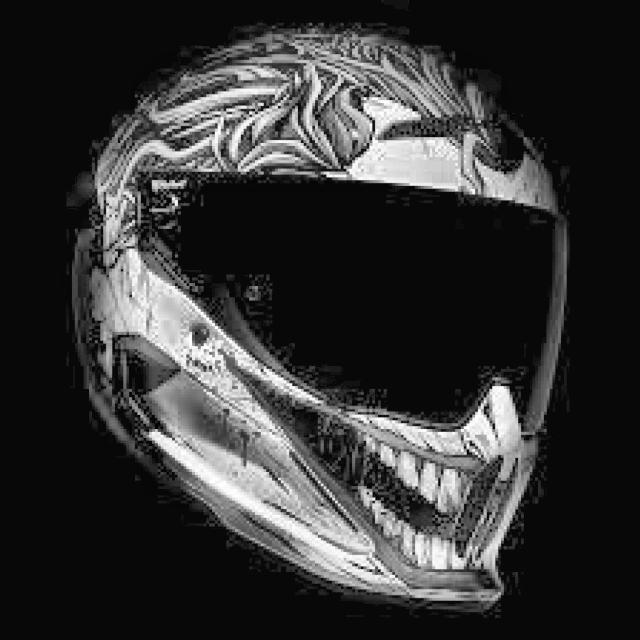Helmet: (74, 20, 560, 617)
